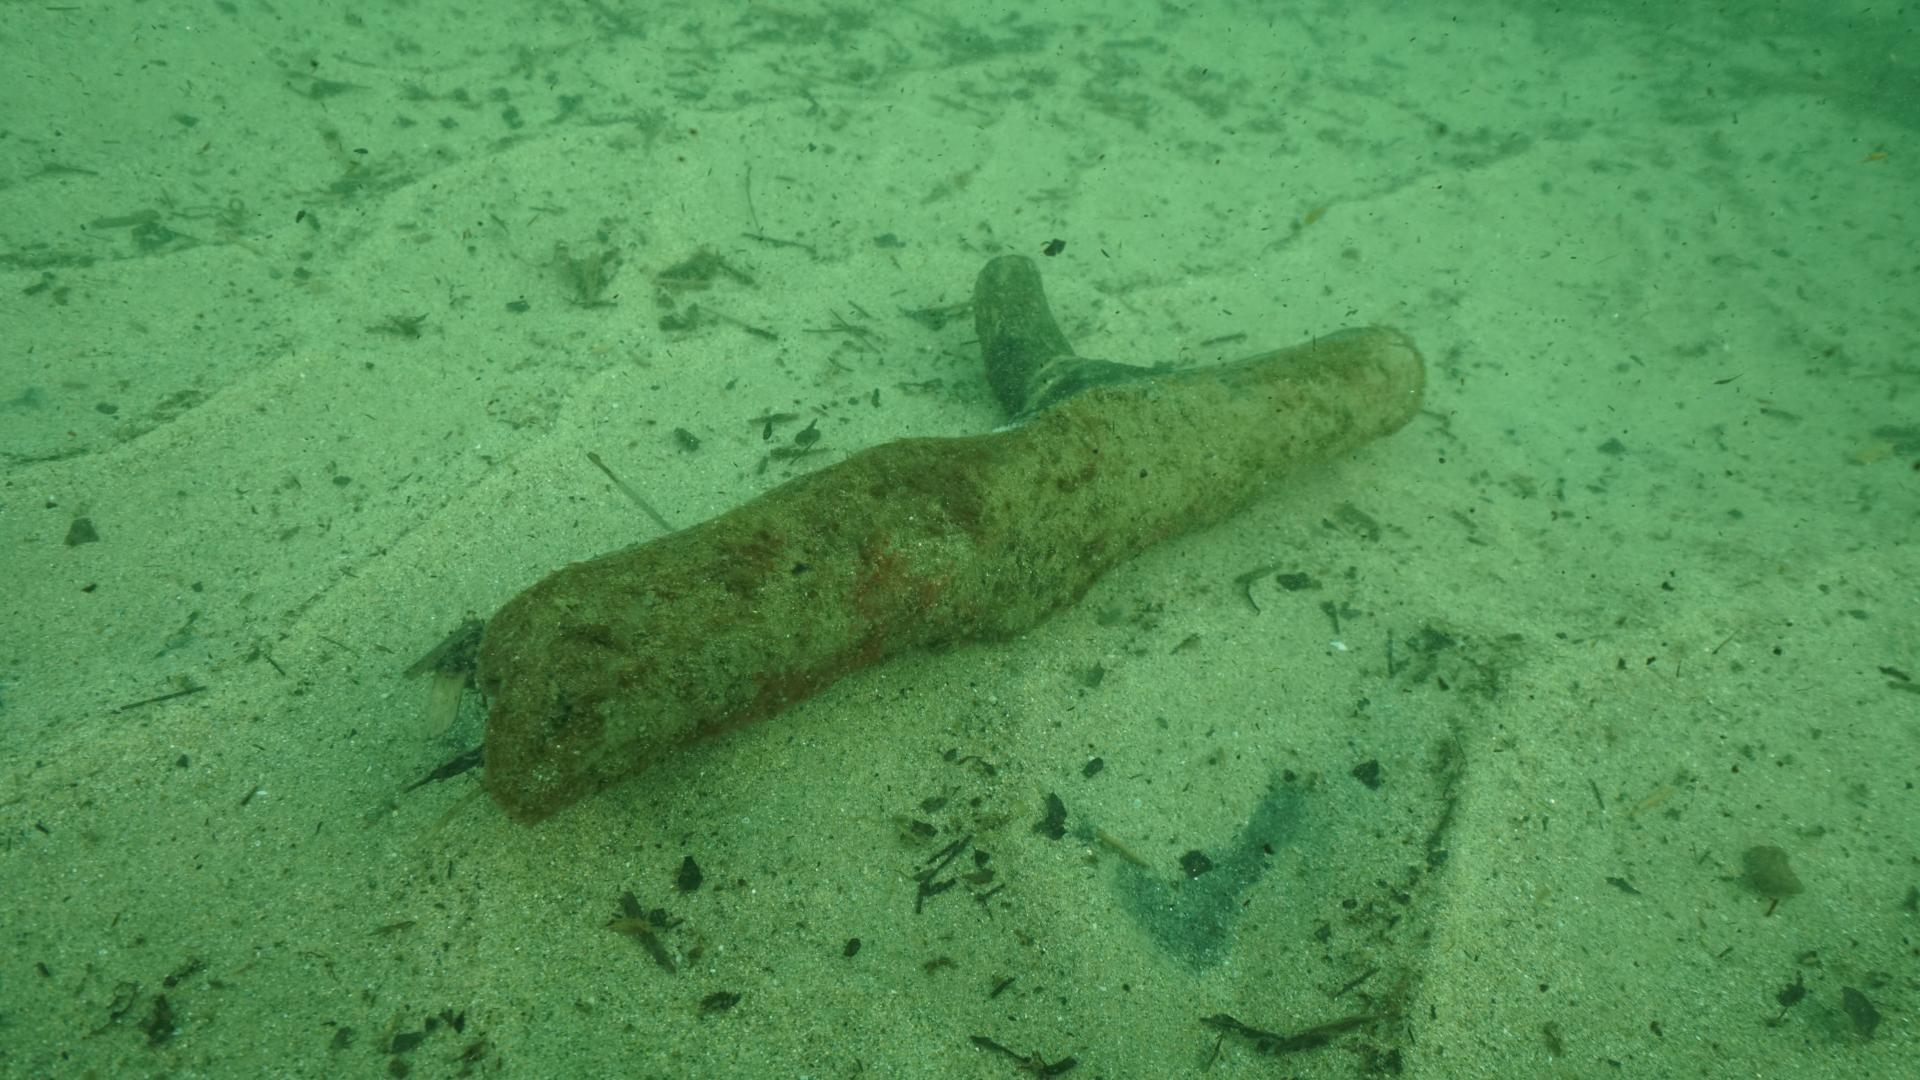wood: (476, 255, 1422, 820)
